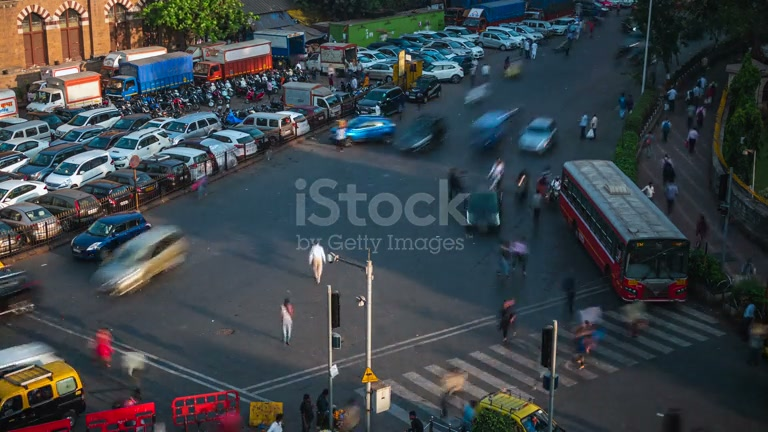bus: (556, 158, 691, 305), (103, 48, 194, 108), (191, 41, 274, 85)
car: (88, 222, 191, 299), (0, 343, 87, 429), (70, 211, 151, 262), (79, 168, 159, 212), (472, 390, 554, 431), (26, 187, 106, 226), (42, 148, 114, 191), (0, 203, 62, 243), (469, 105, 522, 151), (448, 190, 503, 234), (393, 114, 447, 154), (109, 133, 161, 169), (249, 110, 310, 139), (243, 111, 299, 142), (517, 115, 559, 155), (190, 137, 239, 171), (210, 128, 260, 159), (344, 115, 396, 143), (0, 265, 30, 297), (0, 220, 24, 256)
pedestrian: (280, 297, 295, 346), (315, 388, 331, 430), (741, 300, 757, 341), (300, 393, 316, 431), (686, 127, 698, 154), (408, 410, 423, 431)
